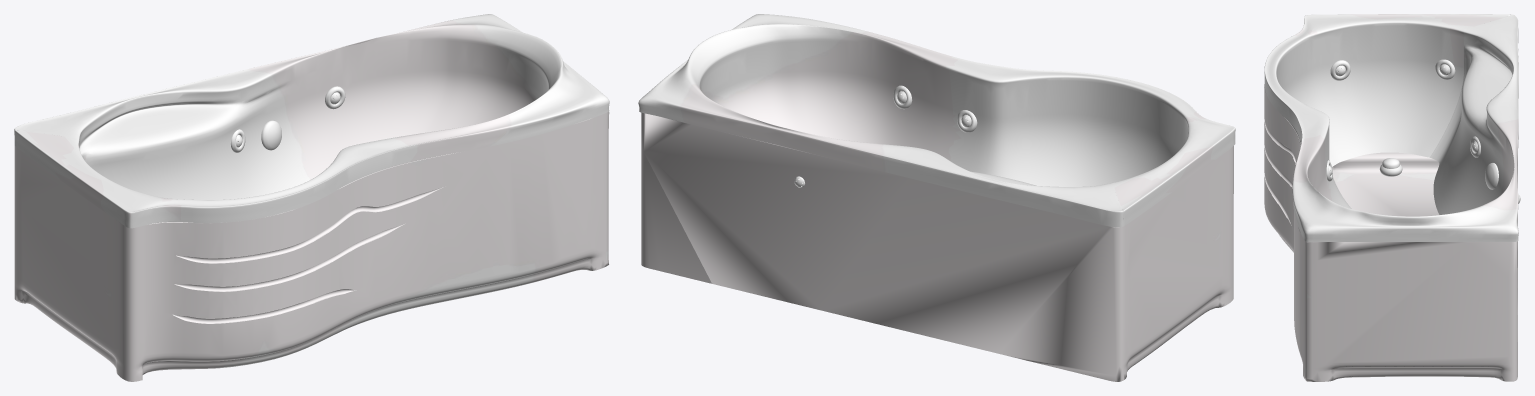
File: bath.dae
The picture shows the model from 3 angles, left to right: view 1: azimuth 30°, elevation 25°; view 2: azimuth 150°, elevation 25°; view 3: azimuth 270°, elevation 25°; orthographic projection. The views are drawn at different scales.
Visible parts, largest first — view 1: objMesh; view 2: objMesh; view 3: objMesh.
Boxes of the visible parts, left/top/right/bottom form: objMesh: left=14, top=14, right=609, bottom=381; objMesh: left=638, top=14, right=1235, bottom=381; objMesh: left=1264, top=14, right=1520, bottom=381.
Bounding box in the file's own units: 1013 × 361 × 512.
Materials: 2 (2 with a texture image).
